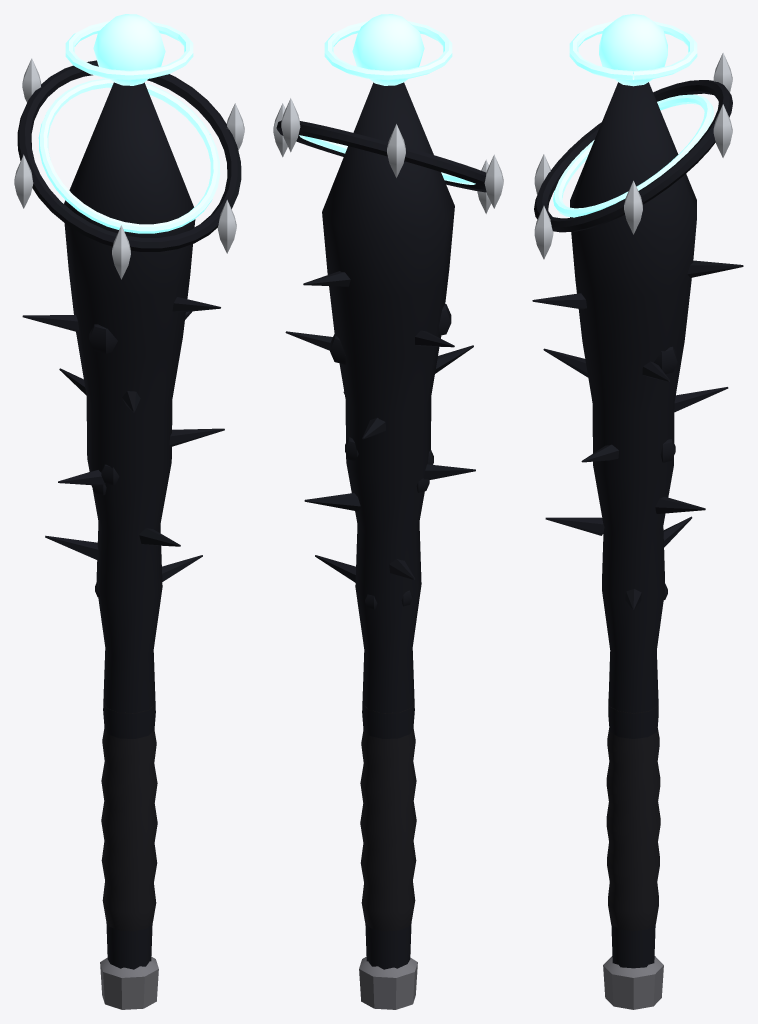
The model's file is esc_w_knight_club_8.glb.
3 views of the same model, side by side, from view 1: azimuth 30°, elevation 25°; view 2: azimuth 150°, elevation 25°; view 3: azimuth 270°, elevation 25° (orthographic).
Visible parts, largest first — view 1: esc_w_knight_club_8; view 2: esc_w_knight_club_8; view 3: esc_w_knight_club_8.
Boxes of the visible parts, x1,y1,x2,y2 form: esc_w_knight_club_8: [14, 14, 244, 1009]; esc_w_knight_club_8: [273, 14, 503, 1009]; esc_w_knight_club_8: [532, 14, 743, 1009].
Size of the model in its own units: 0.2198 by 0.905 by 0.1746.
